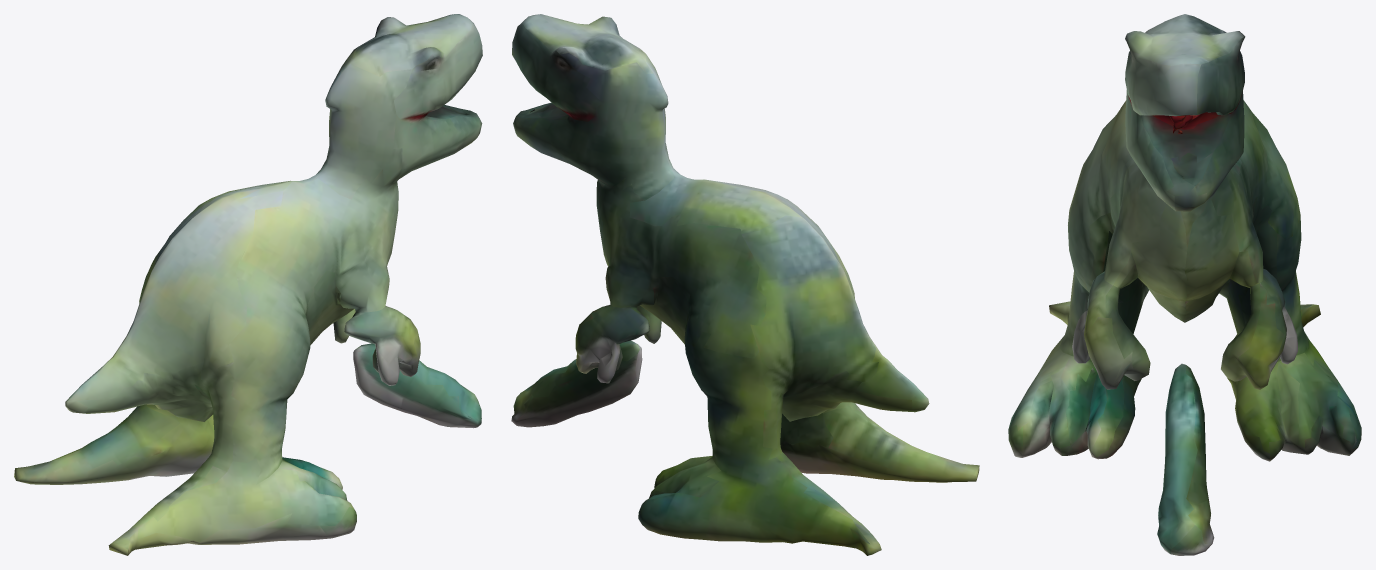
The model's file is trex.glb.
3 renders of one model, left to right at view 1: azimuth 30°, elevation 25°; view 2: azimuth 150°, elevation 25°; view 3: azimuth 270°, elevation 25°, orthographic. The views are drawn at different scales.
Parts seen in each view (by area): view 1: Body; view 2: Body; view 3: Body.
Boxes of the visible parts, bbox=[...] form: Body: bbox=[14, 14, 482, 555]; Body: bbox=[511, 14, 979, 555]; Body: bbox=[1008, 14, 1361, 555].
Bounding box in the file's own units: 0.309 × 0.3001 × 0.1882.
1 material, 1 textured.
